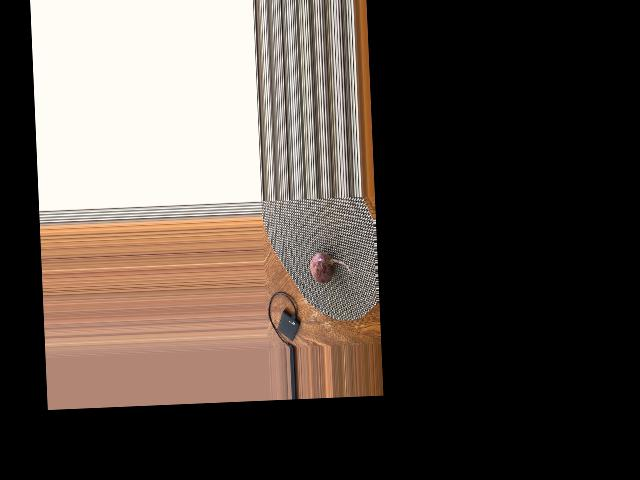beet: (310, 251, 352, 284)
